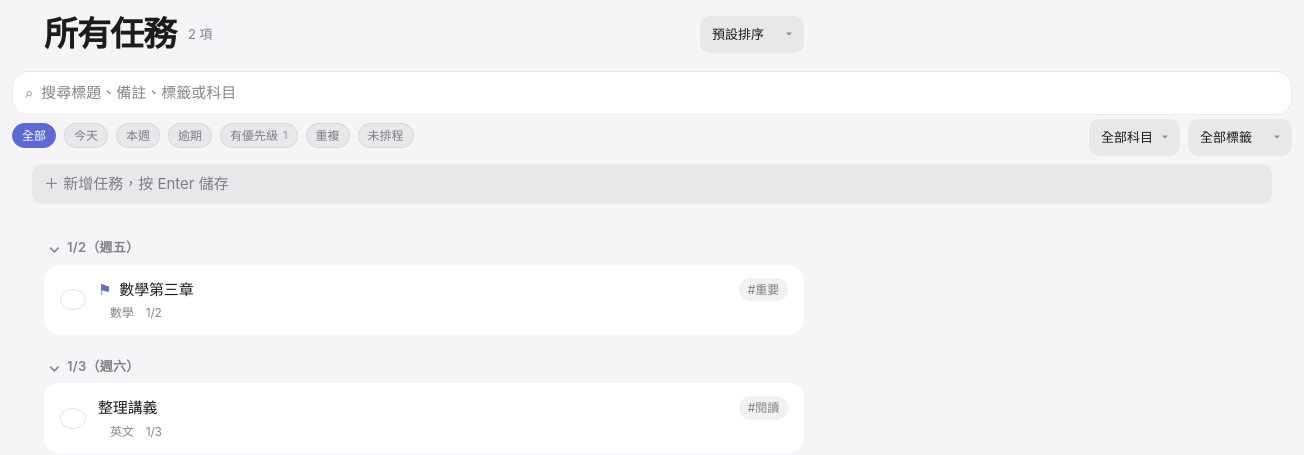
it: 任務 Quick Find › 在任務頁直接篩選目前清單，並可一鍵清除
This screenshot has width=1304, height=455.
Type "英文" into the field named "搜尋目前任務". click: (660, 93)
box: [41, 72, 1279, 114]
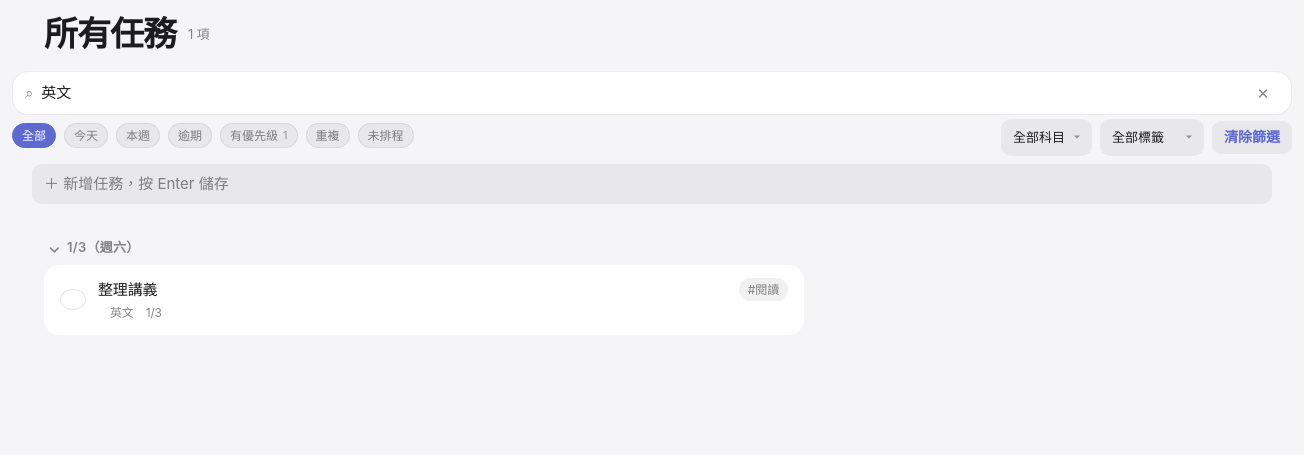
Expected: the text "整理講義" is shown, [98, 280, 157, 299]
Expected: the text "數學第三章" is gone
Click the button named "清除任務搜尋". click: (1263, 93)
box: [1247, 77, 1279, 109]
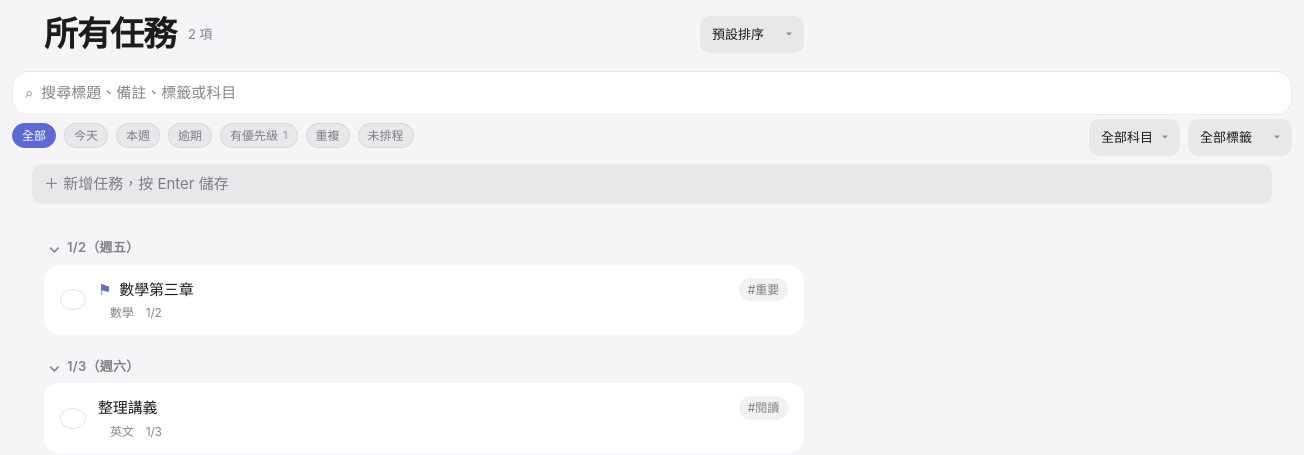
Expected: the text "整理講義" is shown, [98, 398, 157, 417]
Expected: the text "數學第三章" is shown, [119, 280, 194, 299]
